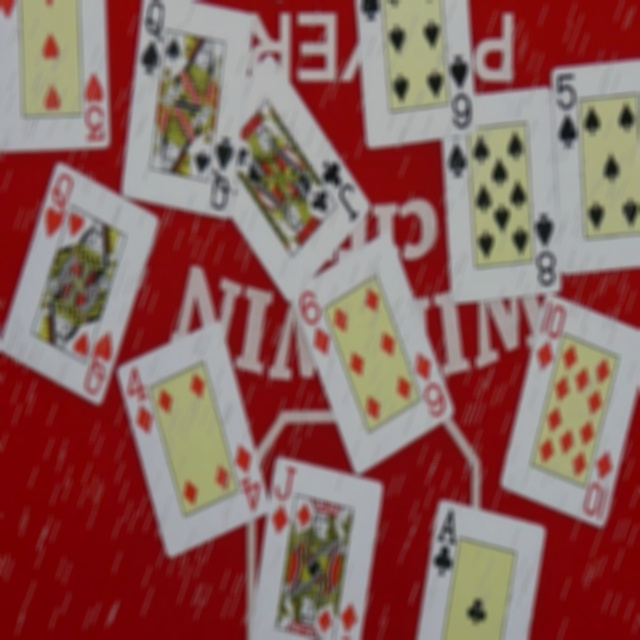10D: (528, 298, 568, 379), (582, 444, 621, 527)
3H: (78, 68, 111, 146), (0, 0, 24, 23)
4D: (228, 437, 266, 522), (120, 364, 159, 445)
5S: (552, 71, 582, 153)
6D: (290, 275, 336, 369), (406, 338, 453, 428)
6S: (342, 0, 386, 26)
8S: (527, 205, 565, 290)
AC: (426, 503, 462, 582)
JD: (265, 461, 300, 541), (326, 594, 366, 640)
QH: (32, 170, 74, 246), (79, 323, 118, 403)
QS: (202, 128, 244, 218), (134, 0, 170, 80)
